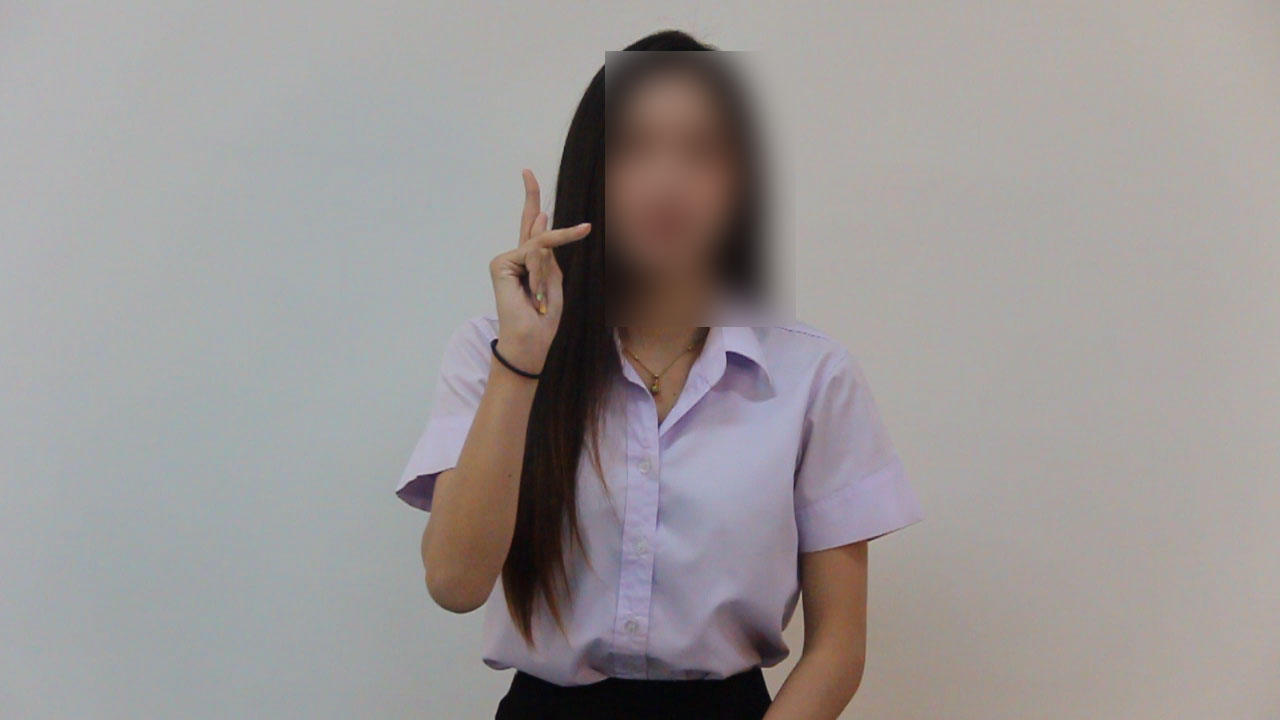ko: (462, 159, 606, 342)
